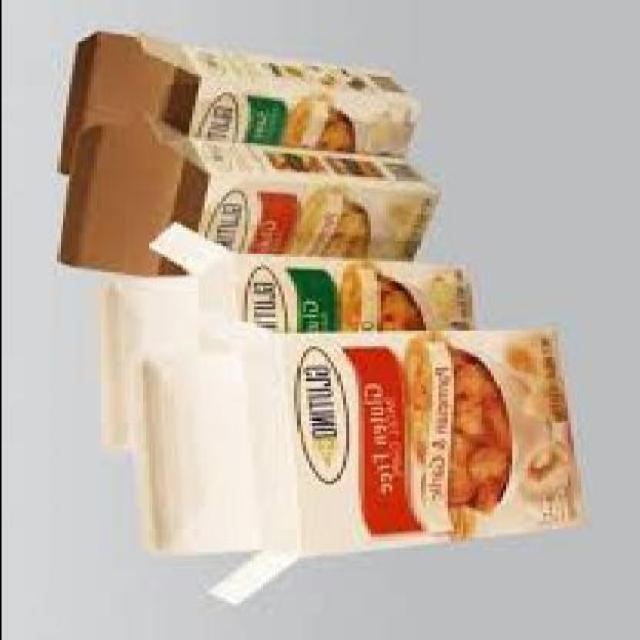CARDBOARD: (129, 309, 569, 600), (95, 219, 471, 447), (55, 112, 434, 274), (49, 29, 416, 169)
